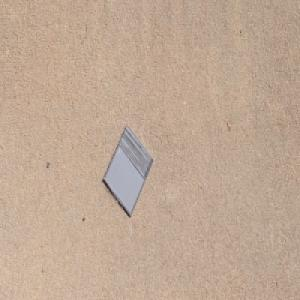PlasticPart: (103, 124, 154, 218)
